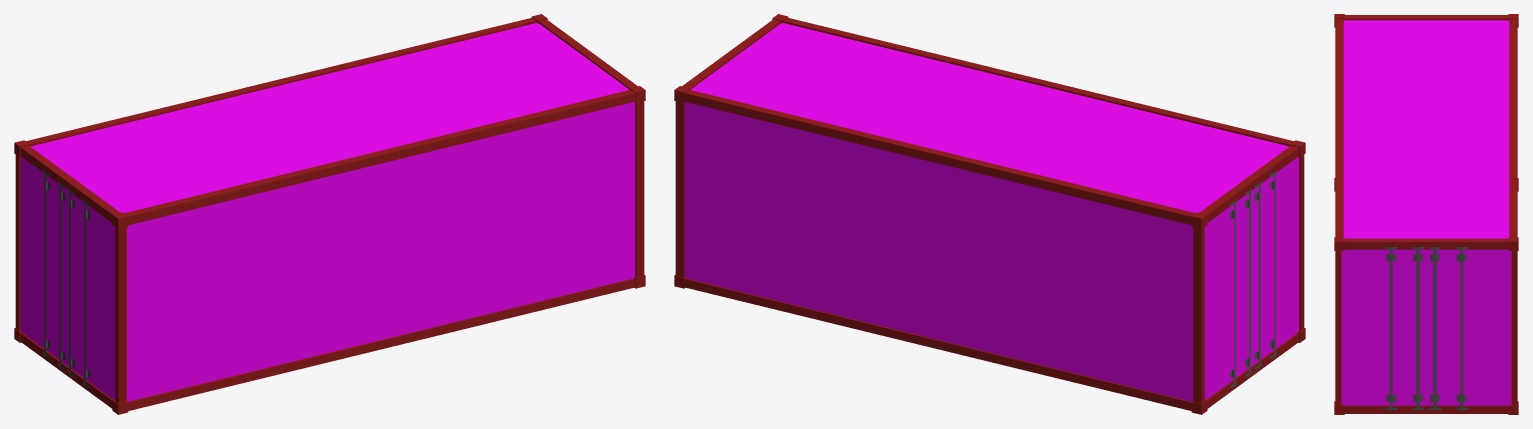
The model's file is CargoContainer.fbx.
3 views of the same model, side by side, from view 1: azimuth 30°, elevation 25°; view 2: azimuth 150°, elevation 25°; view 3: azimuth 270°, elevation 25° (orthographic). The views are drawn at different scales.
Parts seen in each view (by area): view 1: Corrugated, Cube_1_0, PlaneVer; view 2: Corrugated, Cube_1_0, PlaneVer; view 3: Corrugated, Cube_1_0, PlaneVer.
Part boxes in pixels (x1,y1,x2,y2): Corrugated: (20, 23, 635, 401); Cube_1_0: (14, 14, 645, 414); PlaneVer: (43, 170, 89, 387); Corrugated: (684, 23, 1299, 401); Cube_1_0: (674, 14, 1305, 414); PlaneVer: (1230, 170, 1276, 387); Corrugated: (1341, 20, 1511, 405); Cube_1_0: (1334, 14, 1518, 414); PlaneVer: (1385, 246, 1467, 410).
Bounding box in the file's own units: 1254 × 444 × 427.
